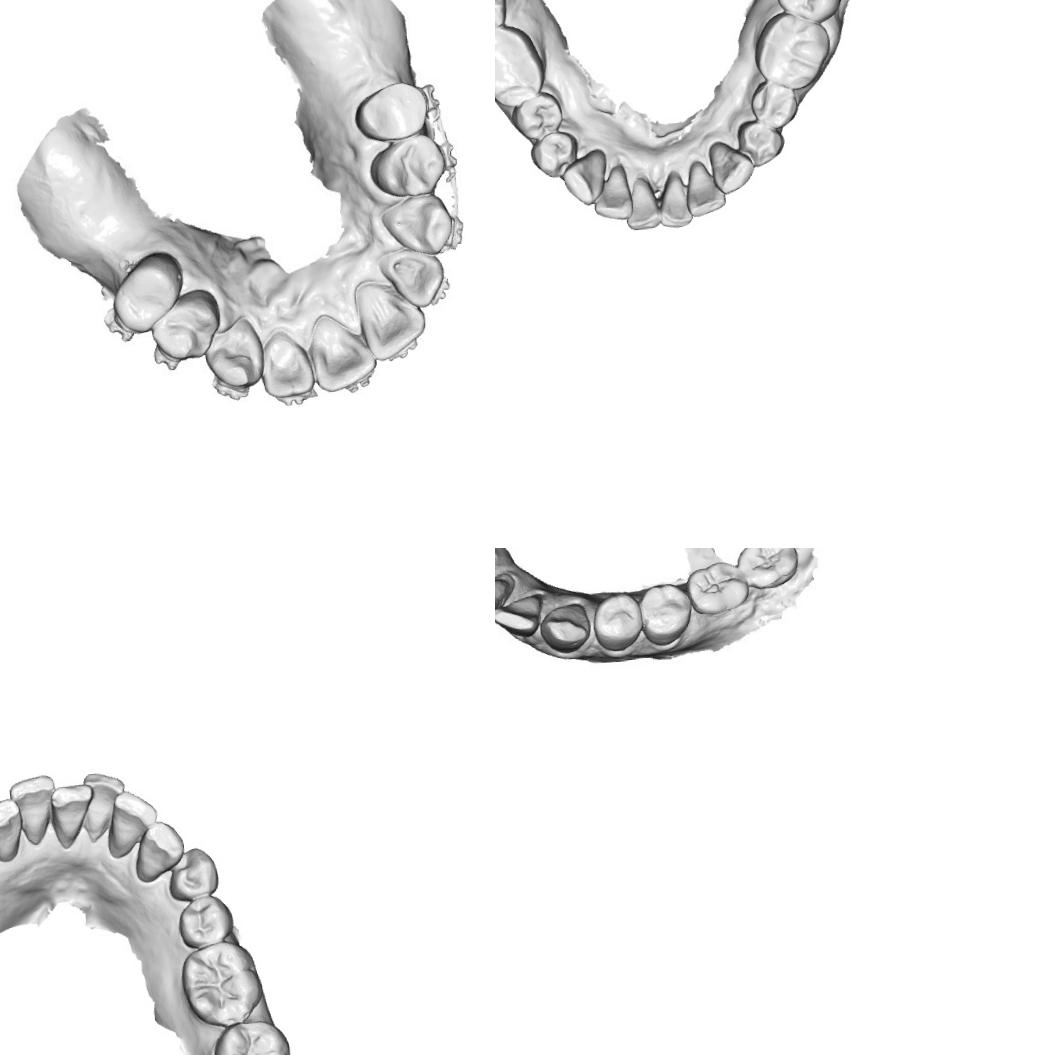canine: (199, 318, 266, 390), (380, 190, 452, 256), (129, 816, 187, 884), (559, 148, 609, 207), (708, 137, 756, 196), (542, 600, 594, 654), (0, 796, 25, 867)
incisor: (358, 282, 430, 364), (306, 314, 378, 389), (101, 788, 162, 860), (258, 330, 314, 402), (5, 773, 58, 846), (80, 768, 130, 844), (386, 251, 445, 311), (48, 781, 98, 850), (682, 158, 727, 218), (590, 162, 634, 222), (656, 168, 694, 229), (622, 174, 660, 232), (496, 597, 540, 635), (495, 576, 509, 615)
molar: (178, 938, 266, 1030), (750, 7, 833, 92), (495, 21, 547, 109), (686, 555, 752, 619), (208, 1016, 295, 1055), (735, 548, 800, 593), (771, 0, 850, 26)
premolar: (108, 251, 186, 336), (352, 76, 430, 144), (369, 132, 447, 198), (156, 298, 221, 362), (638, 580, 692, 649), (592, 588, 646, 655), (174, 894, 236, 951), (164, 844, 220, 903), (508, 89, 564, 141), (747, 78, 800, 130), (735, 117, 786, 168), (528, 128, 580, 178)
